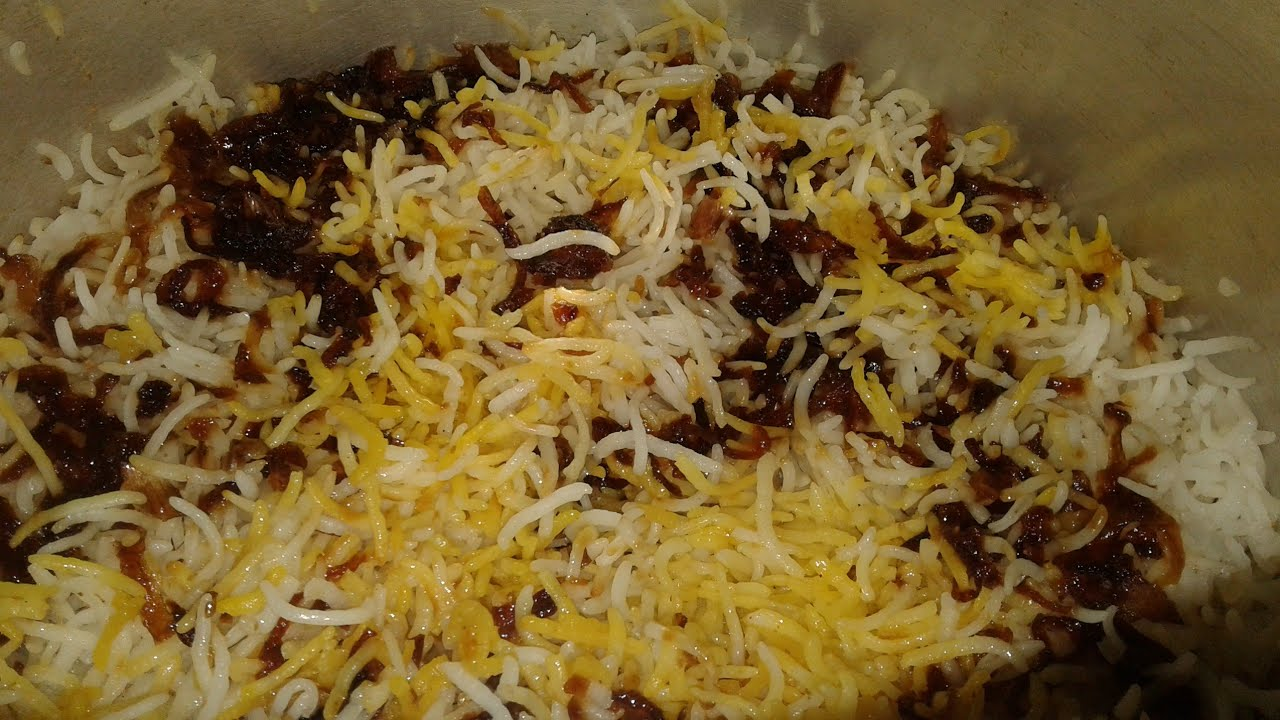Biryani: (41, 44, 1230, 672)
